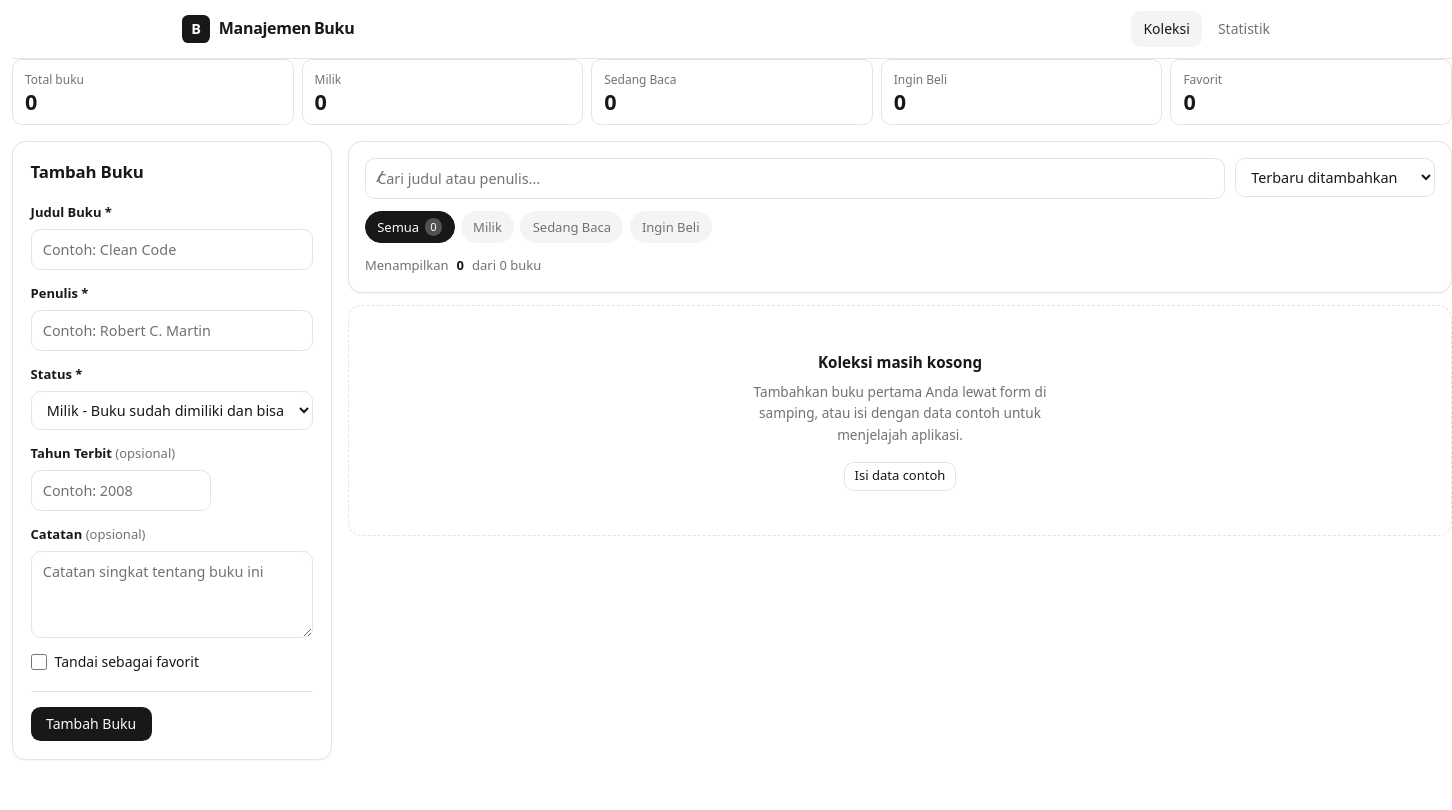
Test: Navigasi React Router › menampilkan statistik setelah buku ditambahkan lewat form
In the field labelled "Judul Buku *": (172, 249) [31, 229, 313, 270], type "Dune"
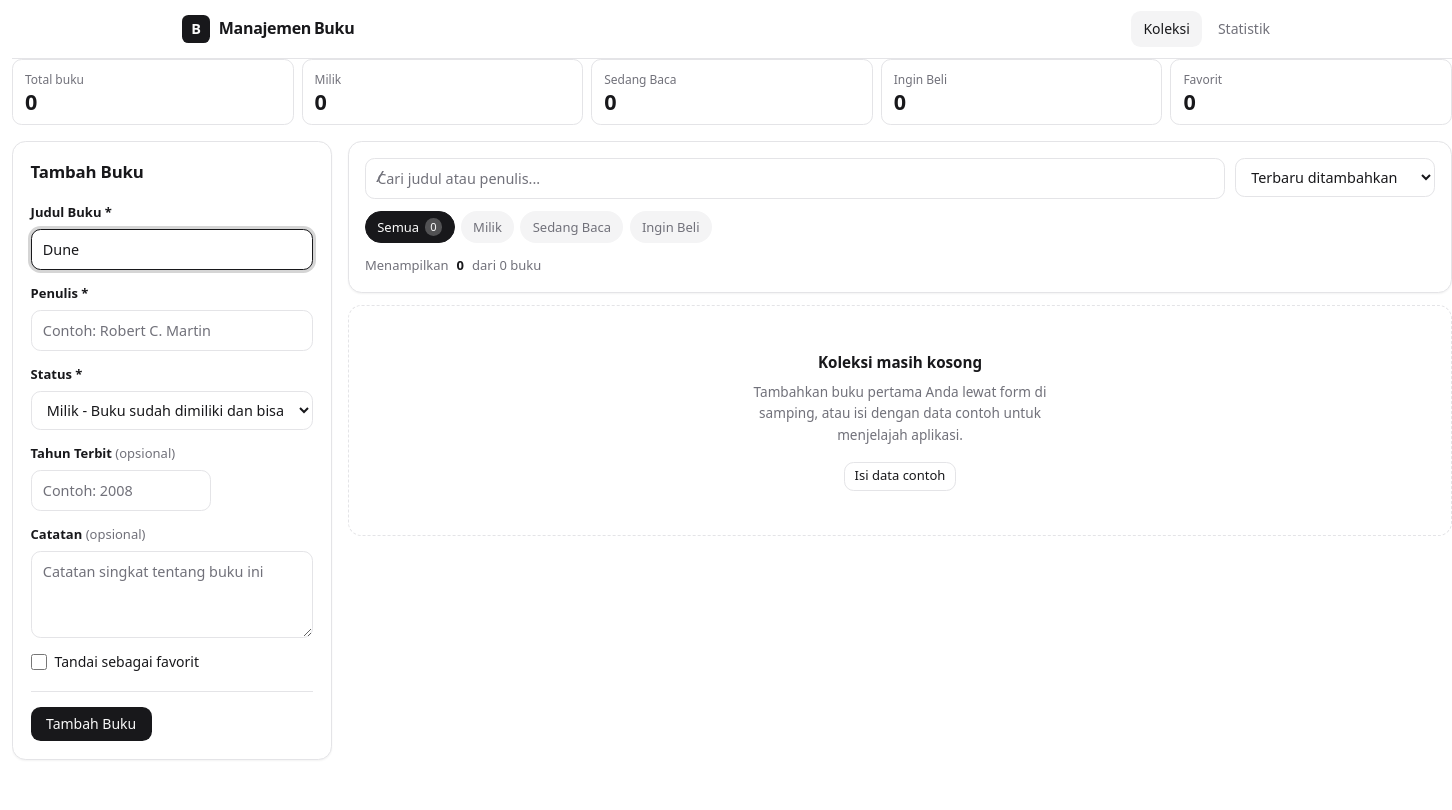
In the field labelled "Penulis *": (172, 330) [31, 310, 313, 351], type "Frank Herbert"
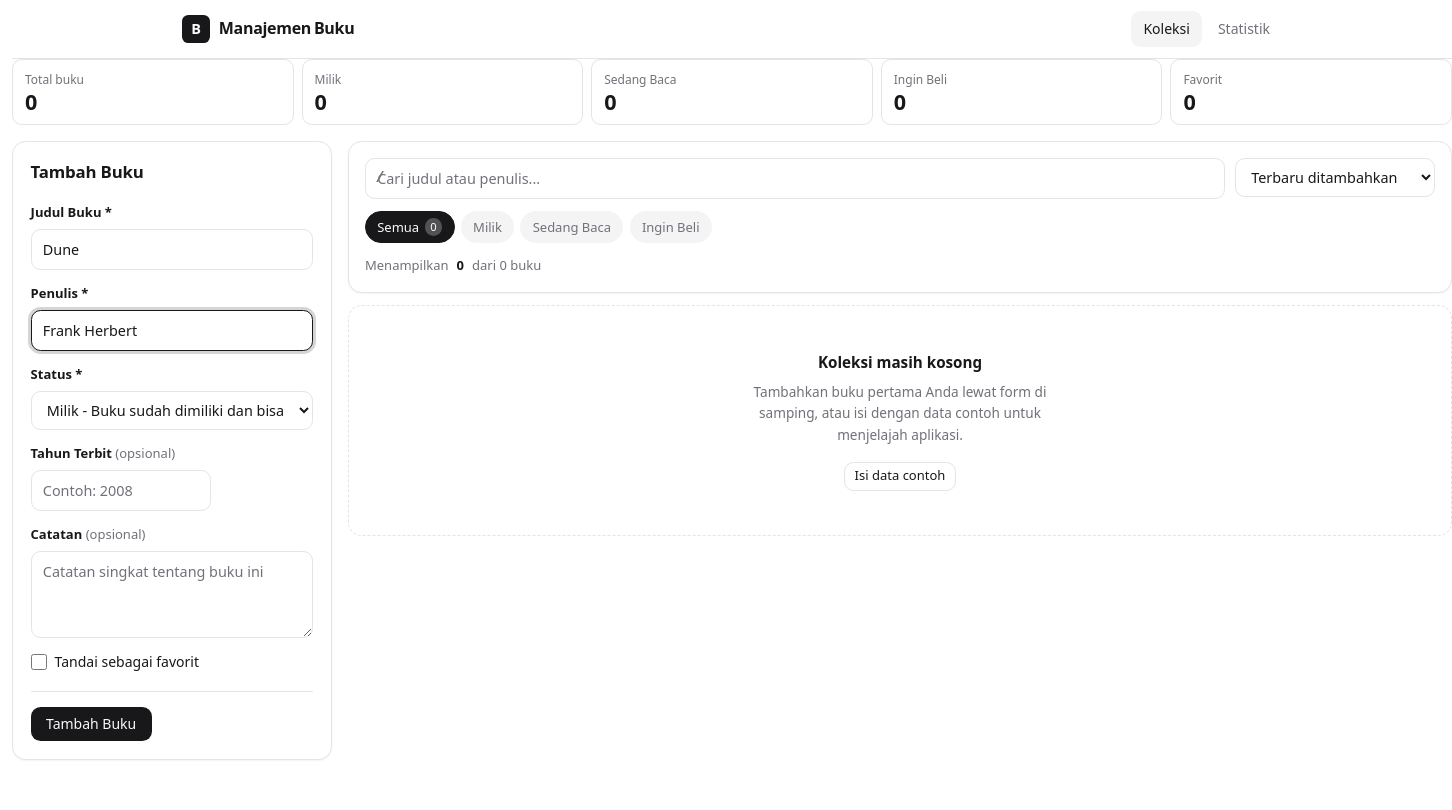
Click the button "Tambah Buku": (91, 724) [31, 707, 152, 741]
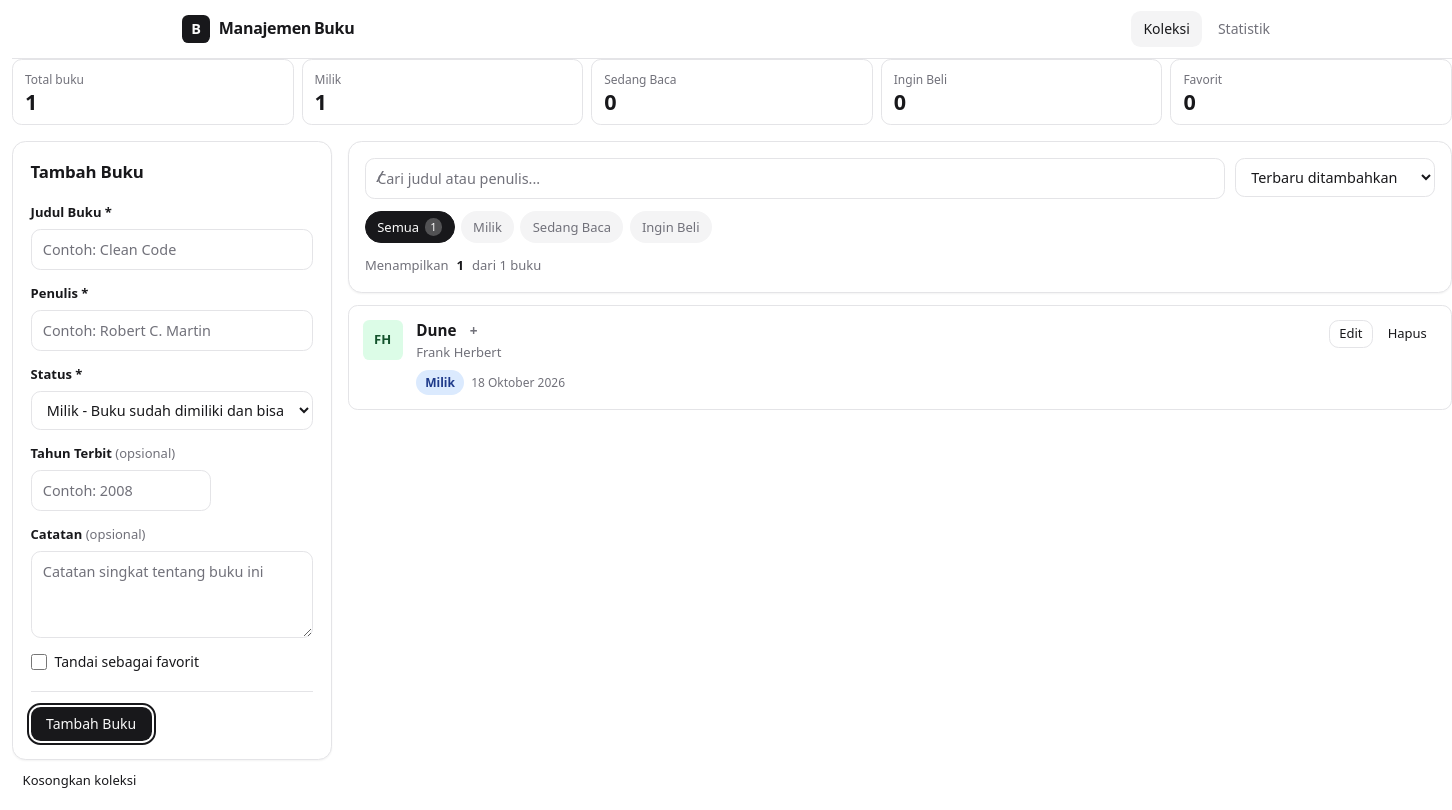
Click the link "Statistik": (1244, 28) [1218, 19, 1270, 38]
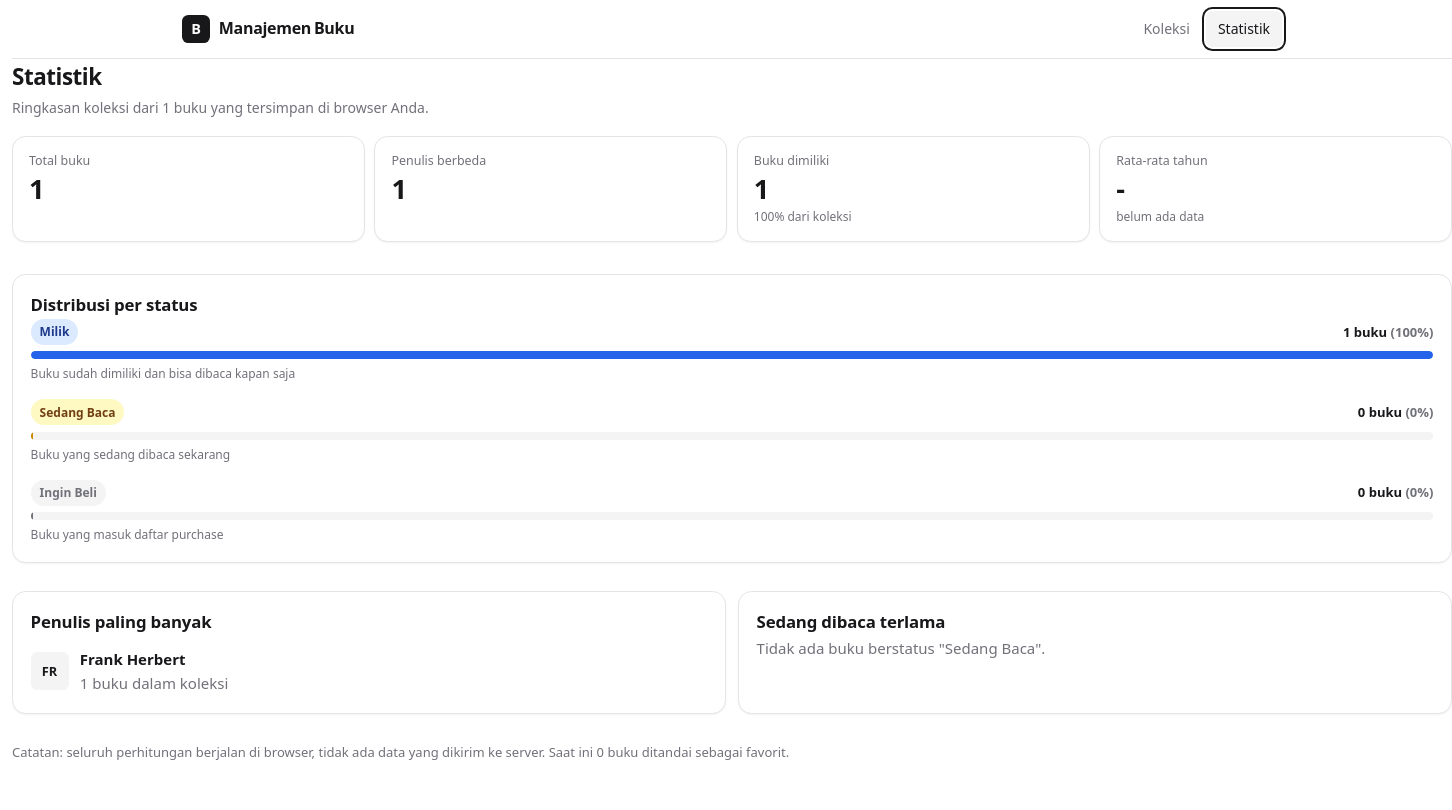
Result: the text "Frank Herbert" is shown at [80, 649, 186, 669]
Result: the heading "Distribusi per status" is shown at [31, 293, 197, 316]
